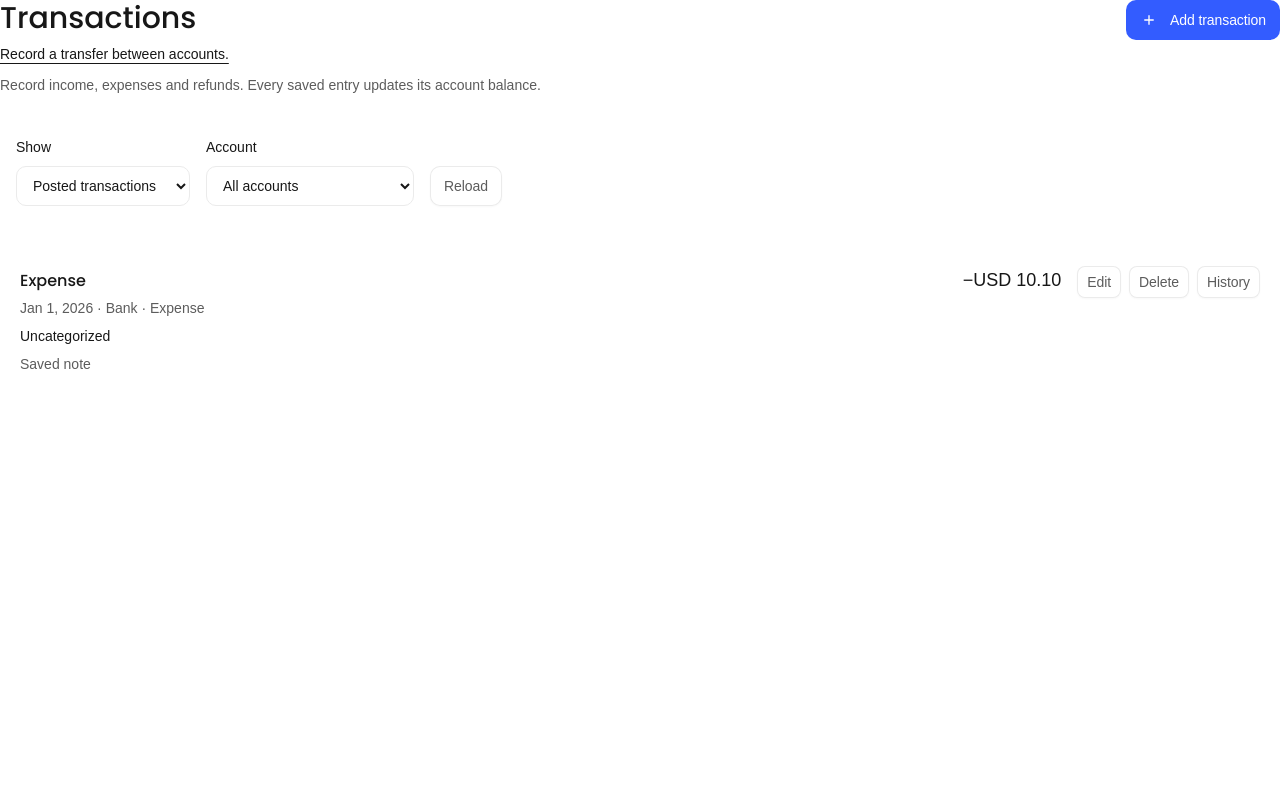
Test: history displays previous snapshots and paginates older changes
What coordinates should you click on to do the following:
click the button with aria-label "View transaction history"
I would click on:
 (1228, 282)
Its box is [1197,266,1260,298].
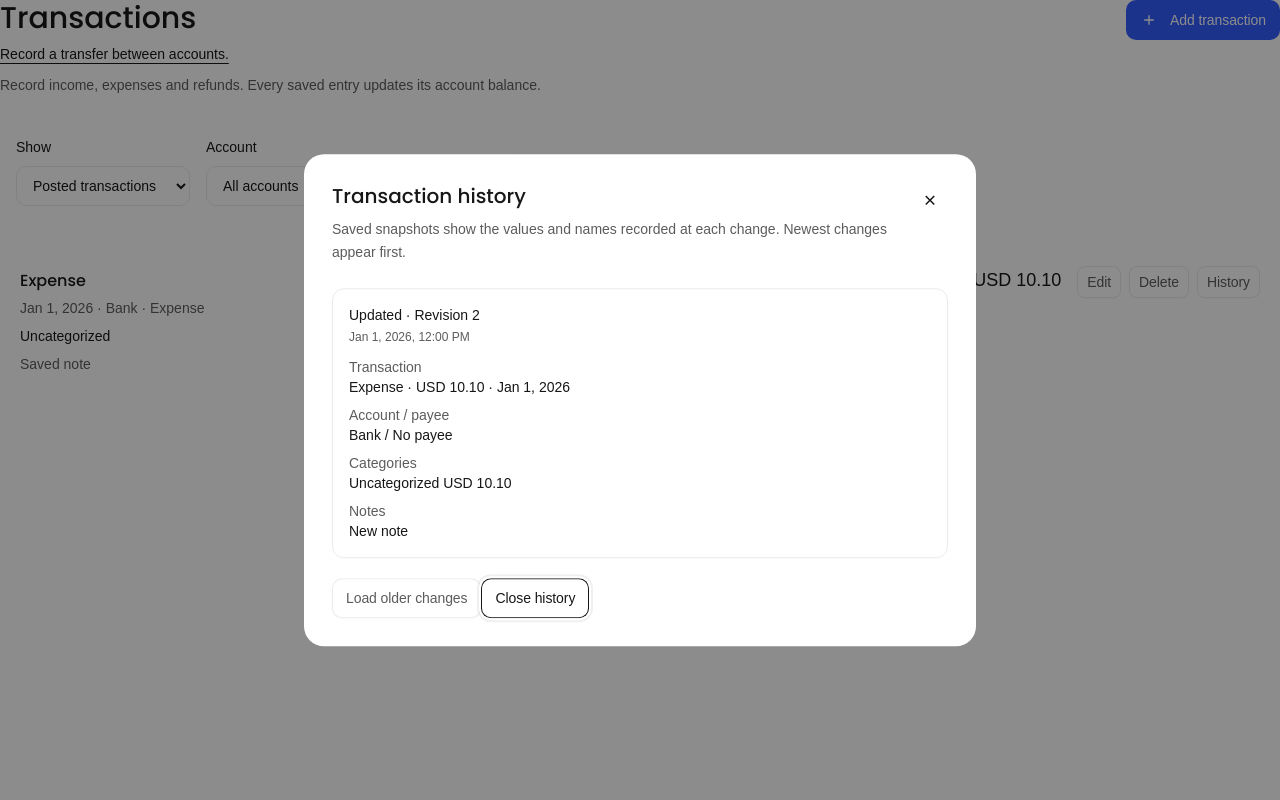
Now the text "New note" is shown, box [349,523,408,539]
What coordinates should you click on to do the following:
click the button "Load older changes"
I would click on:
 (407, 598)
Its box is [332,578,482,618].
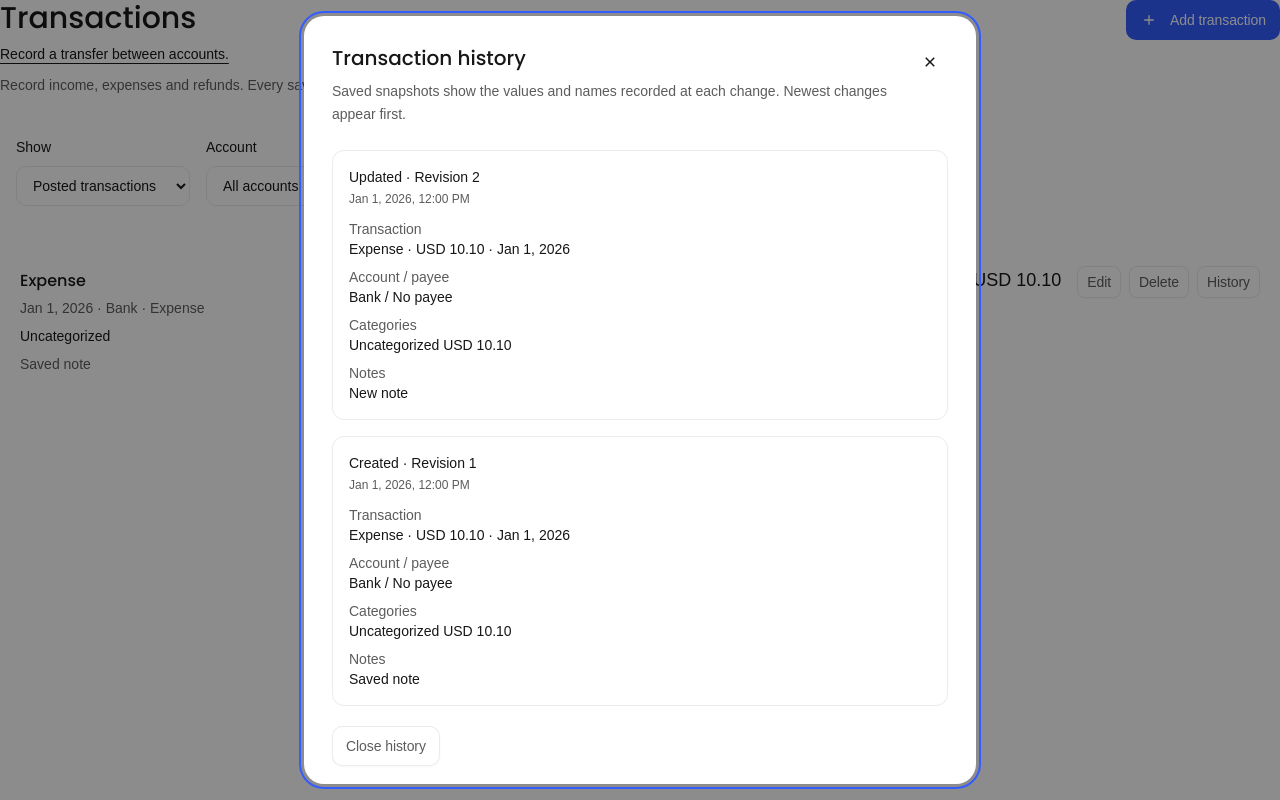
Now the text "Saved note" is shown, box [349,670,420,686]
